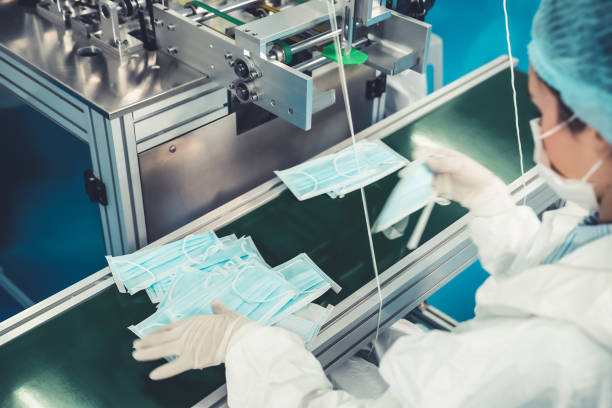with mask: (514, 28, 612, 223)
